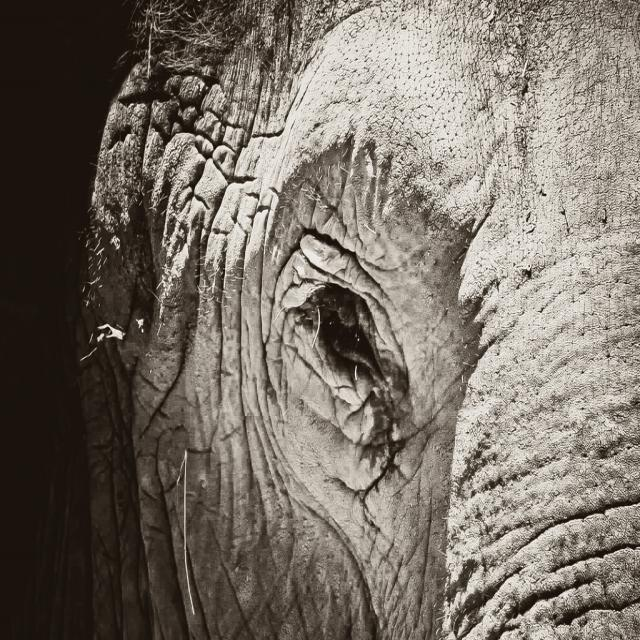Elephant: (75, 0, 639, 639)
